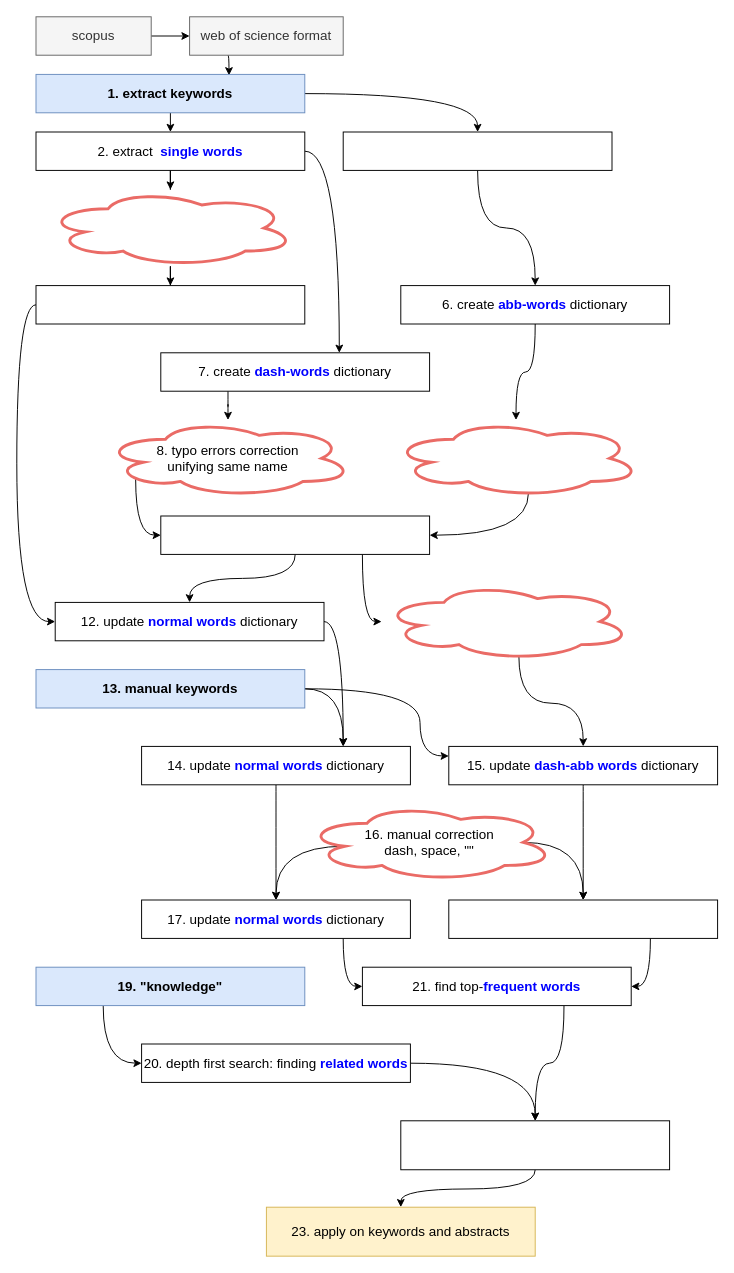
Image size: 734x1273. Some labels were removed from this diagram. The shapes that lost their labels are listed below. From the top down, each one's box as (x1, y1, x2, y2) in pixels, then its label:
(342, 131, 612, 170): 3. extract abbreviations
(44, 188, 296, 267): 4. remove plural words to be kept
(35, 285, 305, 324): 5. create single-plural words dictionary
(389, 418, 642, 498): 9. typo errors correction unifying same name
(160, 515, 430, 554): 10. update dash-abb words dictionary
(380, 581, 632, 661): 11. correct improper abbreviations
(448, 899, 718, 938): 18. update dash-abb words dictionary
(400, 1120, 670, 1170): 22. build keywords dictionary {'on_paper_word' : ['refined_words']}
